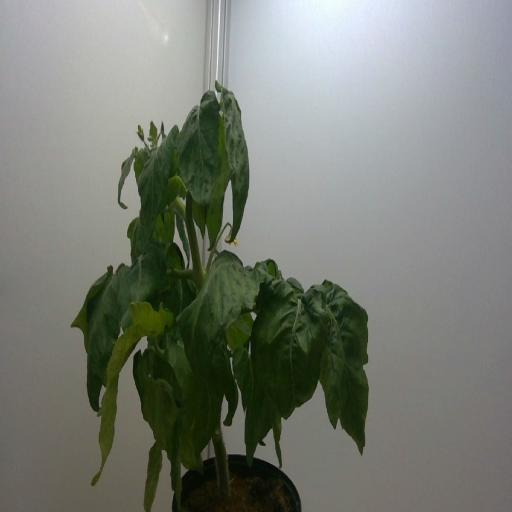Tomato-Leaves-Cupboard-: (86, 304, 179, 483), (238, 278, 323, 472), (312, 268, 381, 474), (68, 256, 126, 418), (126, 346, 198, 475), (182, 254, 256, 348), (175, 79, 219, 215), (223, 78, 255, 246), (160, 318, 200, 416), (132, 148, 165, 248), (125, 242, 170, 311), (213, 349, 238, 433), (228, 345, 256, 415), (111, 140, 136, 214), (144, 438, 168, 512), (221, 309, 258, 357), (274, 399, 287, 484), (132, 143, 152, 194), (144, 115, 159, 140)
